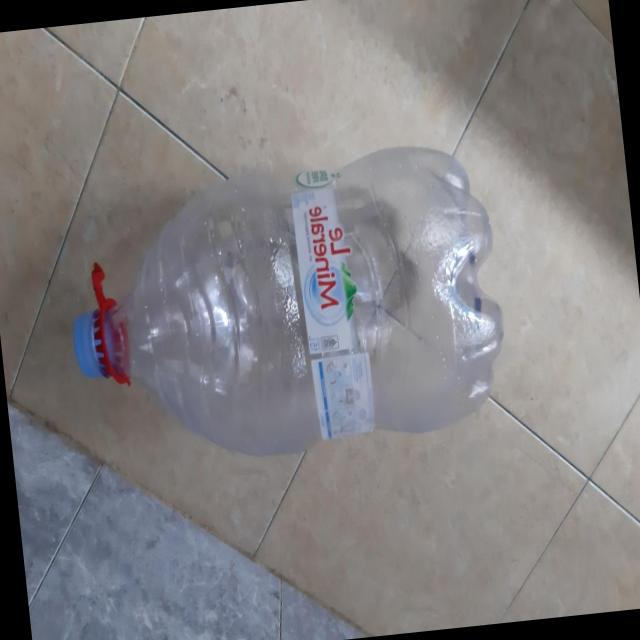Galon: (55, 136, 516, 478)
